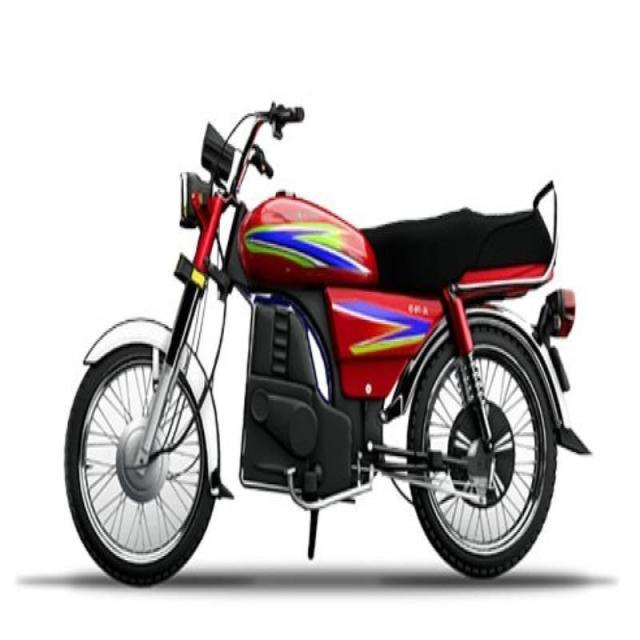motorcycle: (63, 86, 599, 591)
